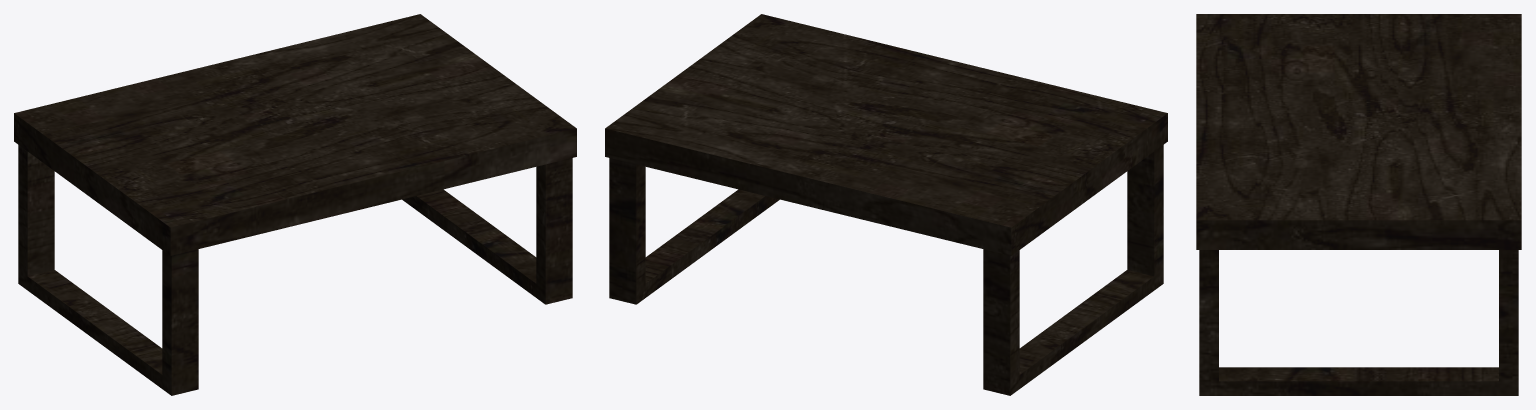
File: Table.fbx
The picture shows the model from 3 angles, left to right: view 1: azimuth 30°, elevation 25°; view 2: azimuth 150°, elevation 25°; view 3: azimuth 270°, elevation 25°; orthographic projection. The views are drawn at different scales.
Size of the model in its own units: 76.2 by 30.48 by 50.8.
Materials: 1 (1 with a texture image).
